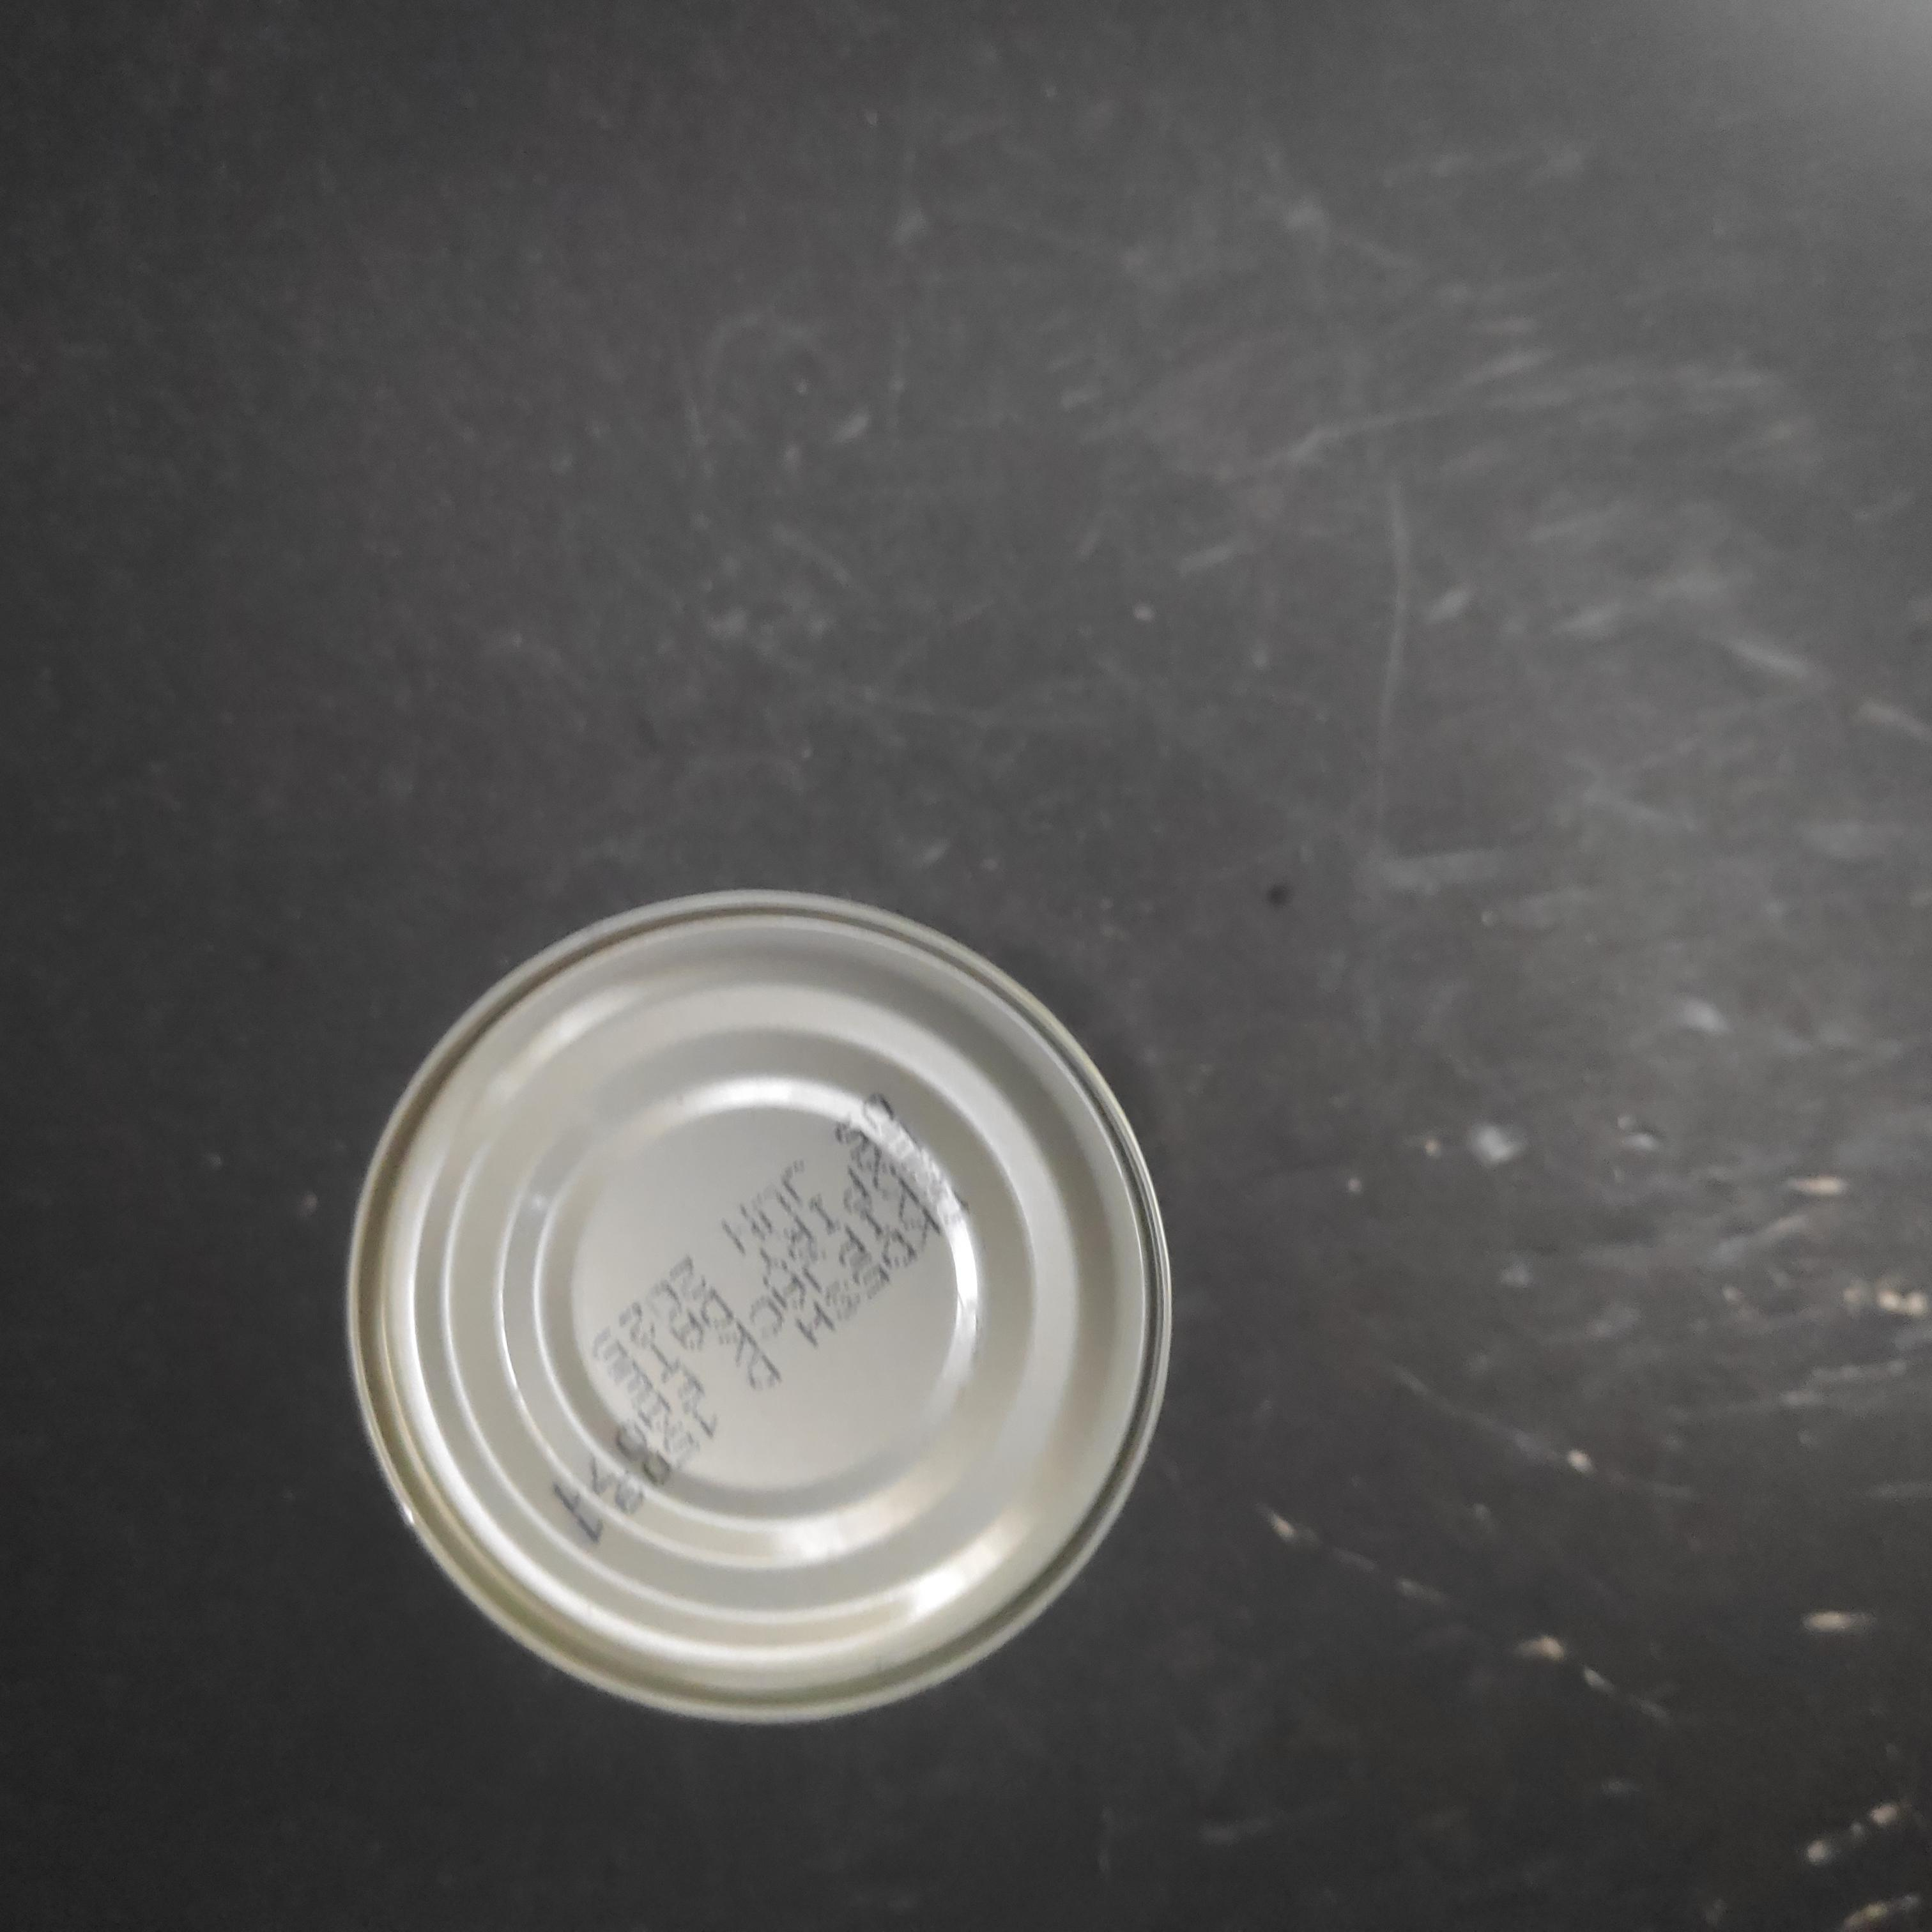No defect: (742, 183, 1607, 1070)
